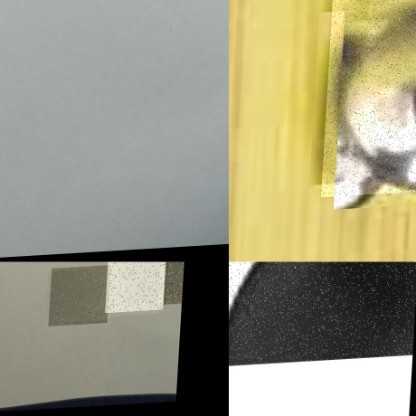ironball: (228, 261, 415, 370), (323, 0, 415, 199), (50, 268, 112, 329), (107, 261, 167, 316), (367, 0, 415, 49), (160, 261, 186, 309)
